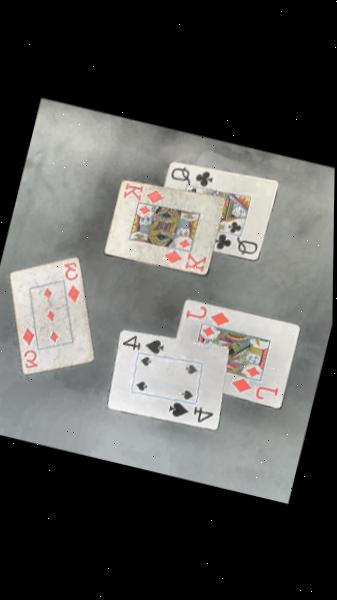3D: (53, 259, 87, 305), (13, 327, 47, 372)
4P: (165, 400, 215, 427), (119, 332, 167, 359)
JC: (228, 376, 279, 405), (182, 302, 232, 330)
KD: (160, 248, 208, 275), (120, 182, 168, 208)
QT: (167, 163, 214, 191), (213, 232, 259, 259)
